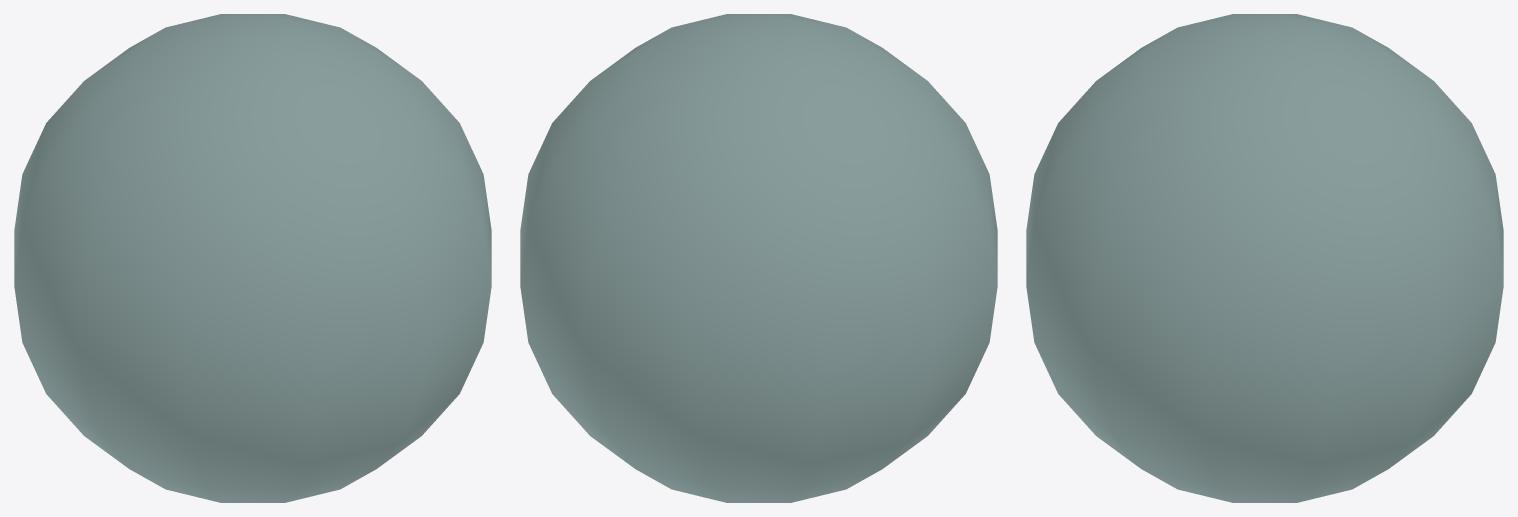
Rendered from spaceRock.gltf.
3 renders of one model, left to right at view 1: azimuth 30°, elevation 25°; view 2: azimuth 150°, elevation 25°; view 3: azimuth 270°, elevation 25°, orthographic.
Visible parts, largest first — view 1: default; view 2: default; view 3: default.
Part boxes in pixels (x1,y1,x2,y2): default: [14, 14, 491, 502]; default: [520, 14, 997, 502]; default: [1026, 14, 1503, 502].
Bounding box in the file's own units: 1.93 × 2 × 1.93.
1 material, 1 textured.
